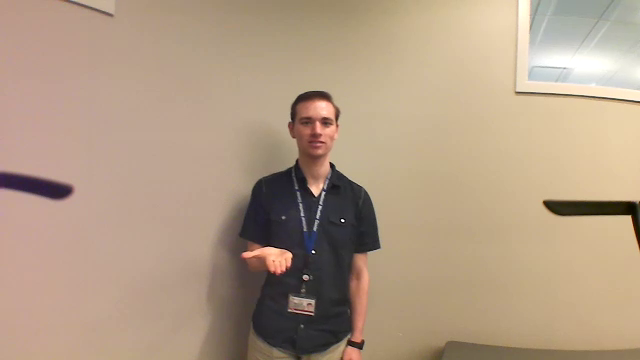land: (231, 238, 299, 280)
